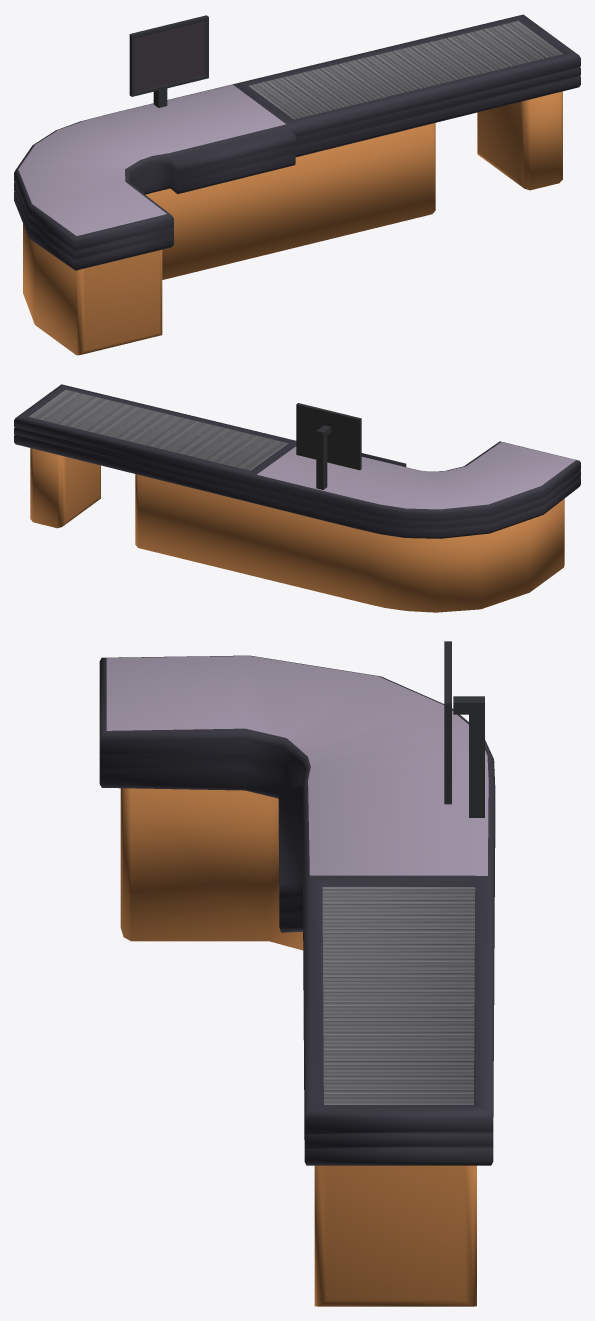
The model's file is cash.glb.
The picture shows the model from 3 angles, top to bottom: view 1: azimuth 30°, elevation 25°; view 2: azimuth 150°, elevation 25°; view 3: azimuth 270°, elevation 25°; orthographic projection. The views are drawn at different scales.
Parts seen in each view (by area): view 1: Cube.002, Cube.001, Cube.003; view 2: Cube.002, Cube.001, Cube.003, Cube; view 3: Cube.002, Cube.001, Cube, Cube.003.
Boxes of the visible parts, box(x1,y1,x2,y2) form: Cube.002: box(14, 14, 580, 270); Cube.001: box(23, 91, 562, 355); Cube.003: box(129, 15, 208, 96); Cube.002: box(14, 384, 580, 538); Cube.001: box(30, 448, 564, 612); Cube.003: box(296, 403, 361, 470); Cube: box(316, 425, 331, 489); Cube.002: box(99, 655, 495, 1165); Cube.001: box(120, 788, 476, 1306); Cube: box(453, 696, 484, 817); Cube.003: box(444, 641, 451, 804).
Bounding box in the file's own units: 11.97 × 4.29 × 4.36.
6 materials, 1 textured.
